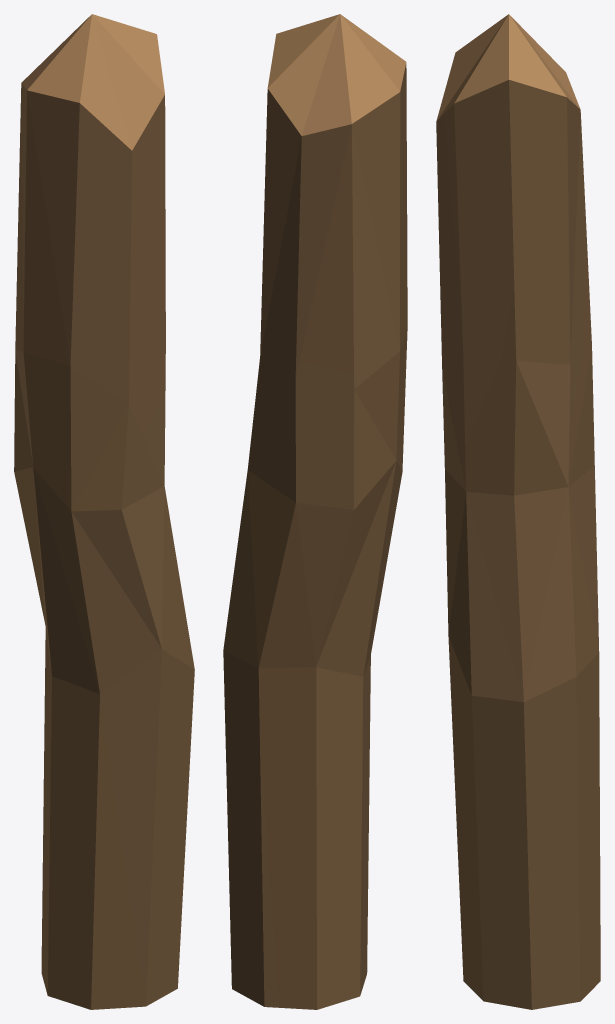
Rendered from poteau_bois.fbx.
3 views of the same model, side by side, from view 1: azimuth 30°, elevation 25°; view 2: azimuth 150°, elevation 25°; view 3: azimuth 270°, elevation 25° (orthographic). The views are drawn at different scales.
Visible parts, largest first — view 1: Fence.002; view 2: Fence.002; view 3: Fence.002.
Part boxes in pixels (x1=…): Fence.002: x1=14, y1=14, x2=194, y2=1009; Fence.002: x1=223, y1=14, x2=407, y2=1009; Fence.002: x1=436, y1=14, x2=600, y2=1009.
Size of the model in its own units: 23.25 by 130 by 20.37.
